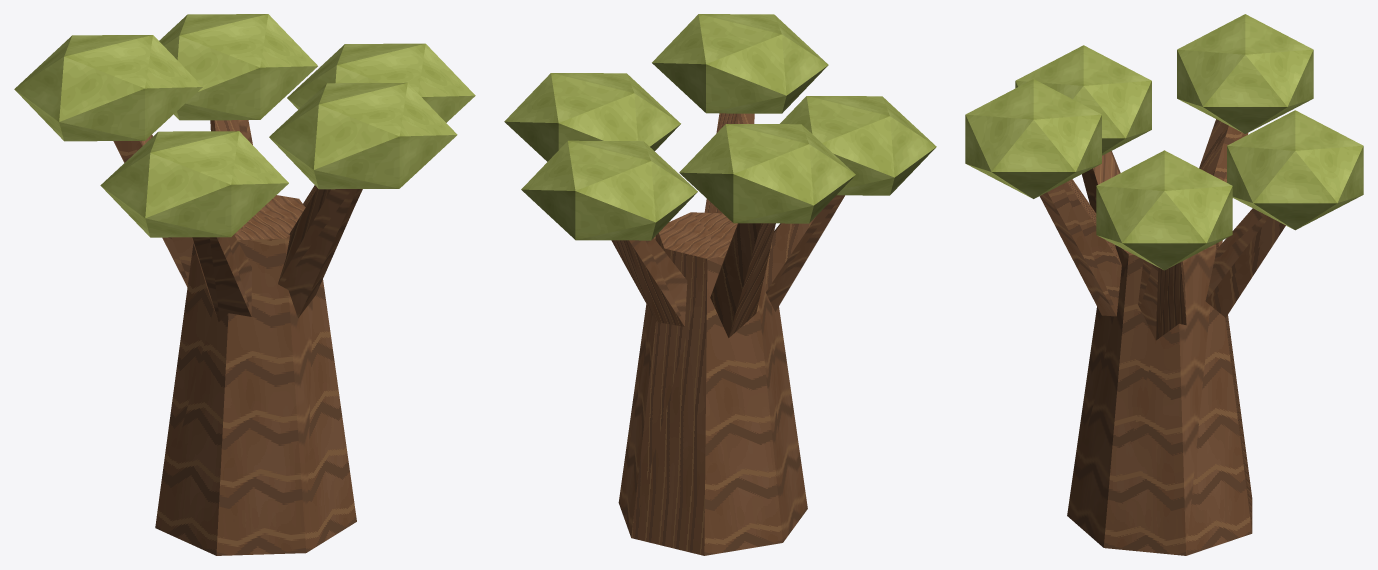
The model's file is arvore-baoba-v03.gltf.
3 renders of one model, left to right at view 1: azimuth 30°, elevation 25°; view 2: azimuth 150°, elevation 25°; view 3: azimuth 270°, elevation 25°, orthographic. The views are drawn at different scales.
Visible parts, largest first — view 1: tronco-galhos-copa; view 2: tronco-galhos-copa; view 3: tronco-galhos-copa.
Part boxes in pixels (x1,y1,x2,y2): tronco-galhos-copa: [14, 14, 475, 555]; tronco-galhos-copa: [504, 14, 936, 555]; tronco-galhos-copa: [965, 14, 1363, 555].
Size of the model in its own units: 3.53 by 4.18 by 3.47.
Materials: 1 (1 with a texture image).
